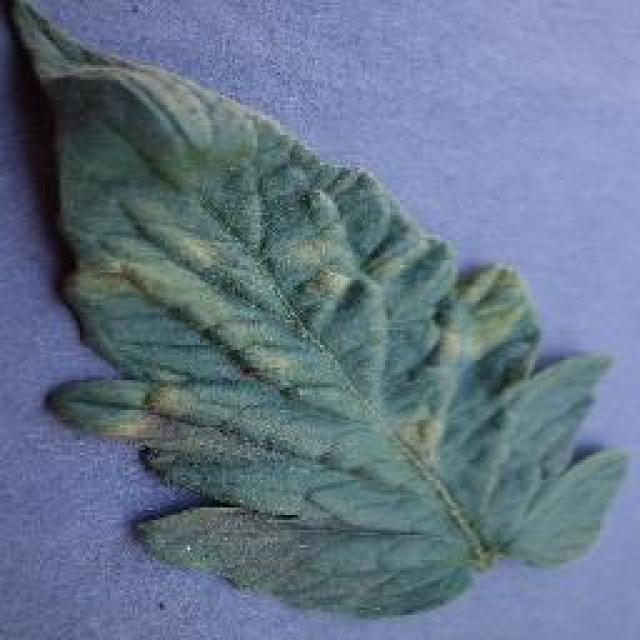Tomato mold leaf: (4, 0, 617, 620)
